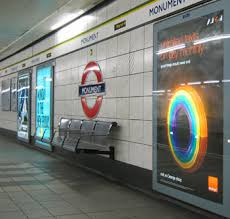London Underground: (79, 61, 106, 120)
